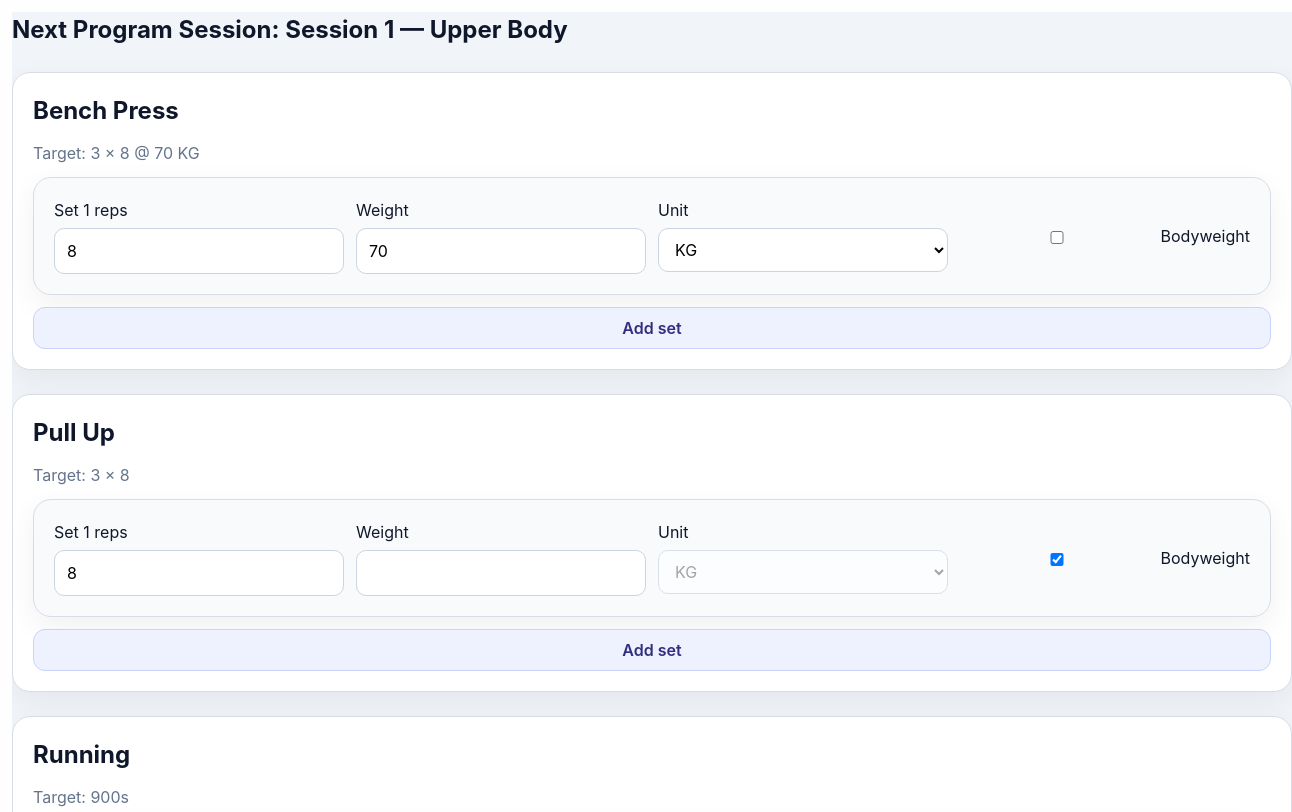
ProgramSessionForm › allows updating set values and bodyweight toggle
Expected: the text "Bench Press" is shown, left=33, top=96, right=179, bottom=125
Replace the text in the number field labelled "Set 1 reps" below "3 × 8 @ 70 KG" with "2" at (199, 251), box left=54, top=228, right=344, bottom=274
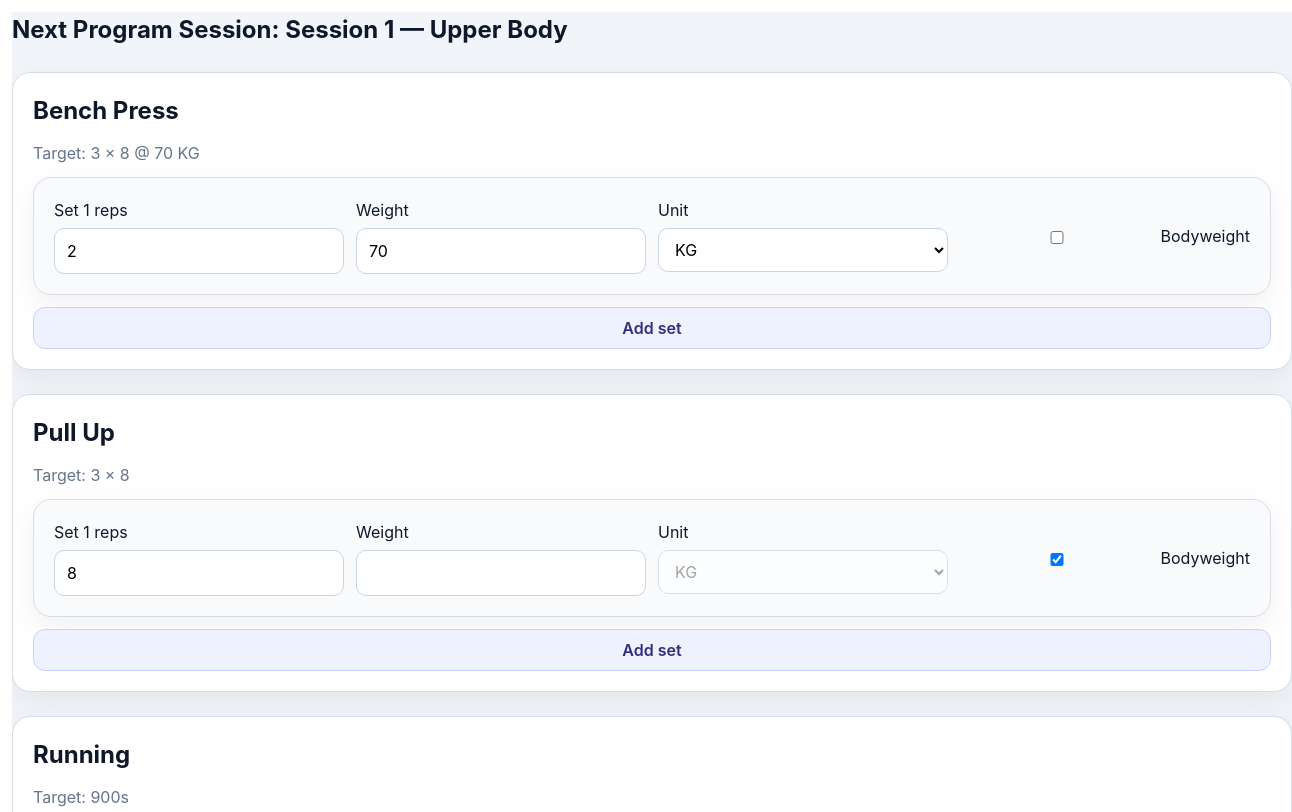
Click the 1st checkbox labelled "Bodyweight" at (1057, 238), box left=964, top=231, right=1150, bottom=244
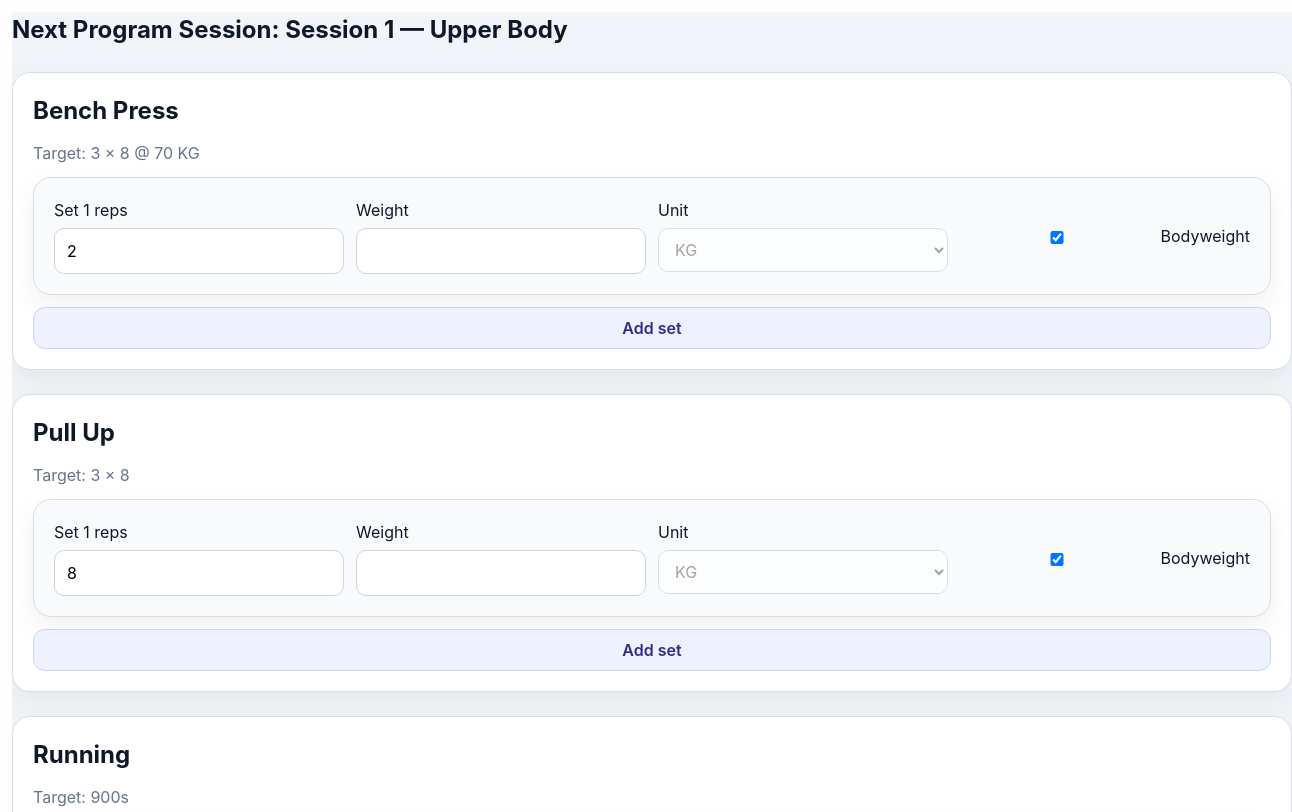
Result: the 1st checkbox labelled "Bodyweight" is checked at left=964, top=231, right=1150, bottom=244
Result: the number field labelled "Weight" below "3 × 8 @ 70 KG" is disabled at left=356, top=228, right=646, bottom=274
